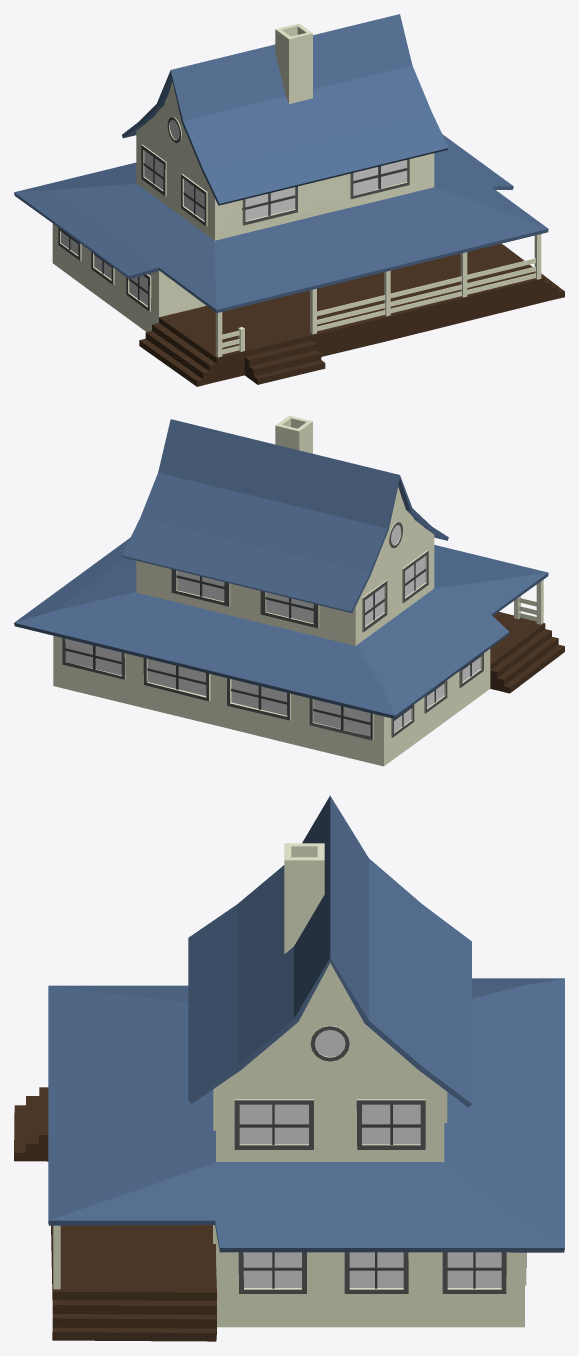
Rendered from Set3.fbx.
3 views of the same model, one above another, from view 1: azimuth 30°, elevation 25°; view 2: azimuth 150°, elevation 25°; view 3: azimuth 270°, elevation 25° (orthographic). The views are drawn at different scales.
Visible parts, largest first — view 1: Casa; view 2: Casa; view 3: Casa.
Part boxes in pixels (left/top/right/bottom): Casa: left=14, top=14, right=564, bottom=386; Casa: left=14, top=415, right=564, bottom=766; Casa: left=14, top=795, right=564, bottom=1341.
Bounding box in the file's own units: 1465 × 928 × 1265.
